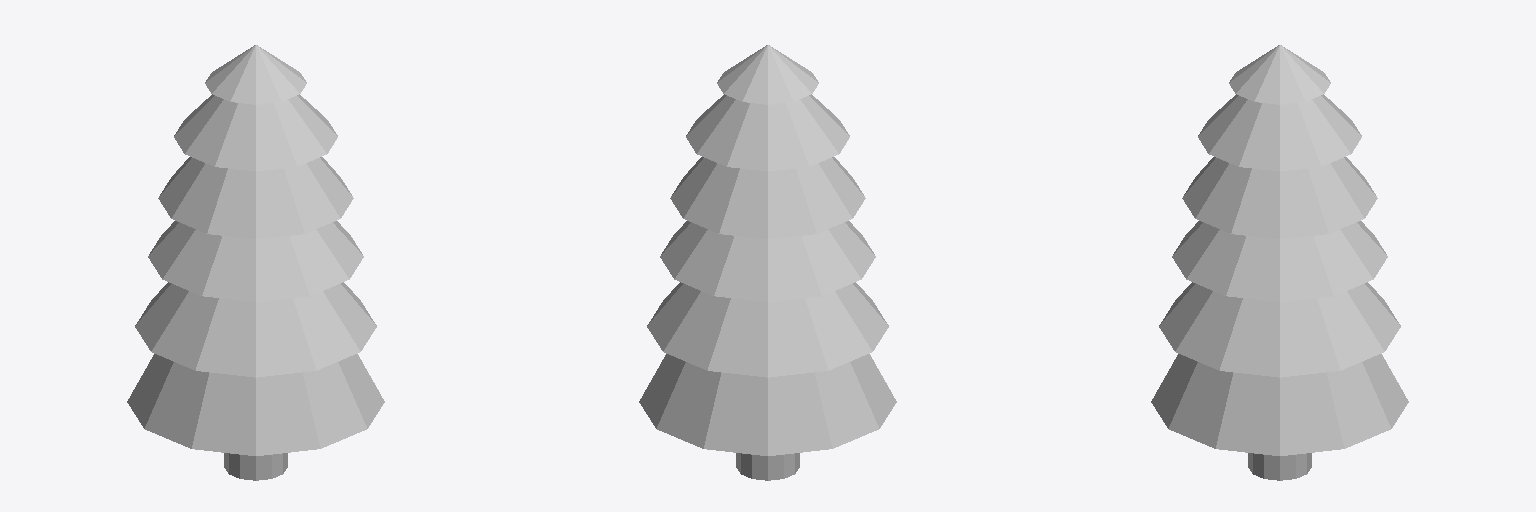
Rendered from uglyTree.obj.
The picture shows the model from 3 angles: view 1: azimuth 30°, elevation 25°; view 2: azimuth 150°, elevation 25°; view 3: azimuth 270°, elevation 25°; orthographic projection.
Visible parts, largest first — view 1: Cylinder; view 2: Cylinder; view 3: Cylinder.
Boxes of the visible parts, <box> form: Cylinder: <box>127,45,384,480</box>; Cylinder: <box>639,45,896,480</box>; Cylinder: <box>1151,45,1408,480</box>.
Size of the model in its own units: 4.04 by 7.31 by 4.04.